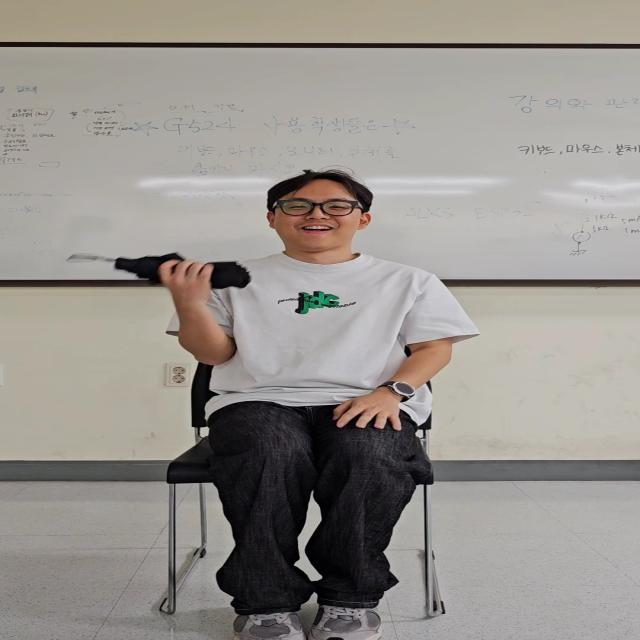curl: (117, 245, 261, 372)
